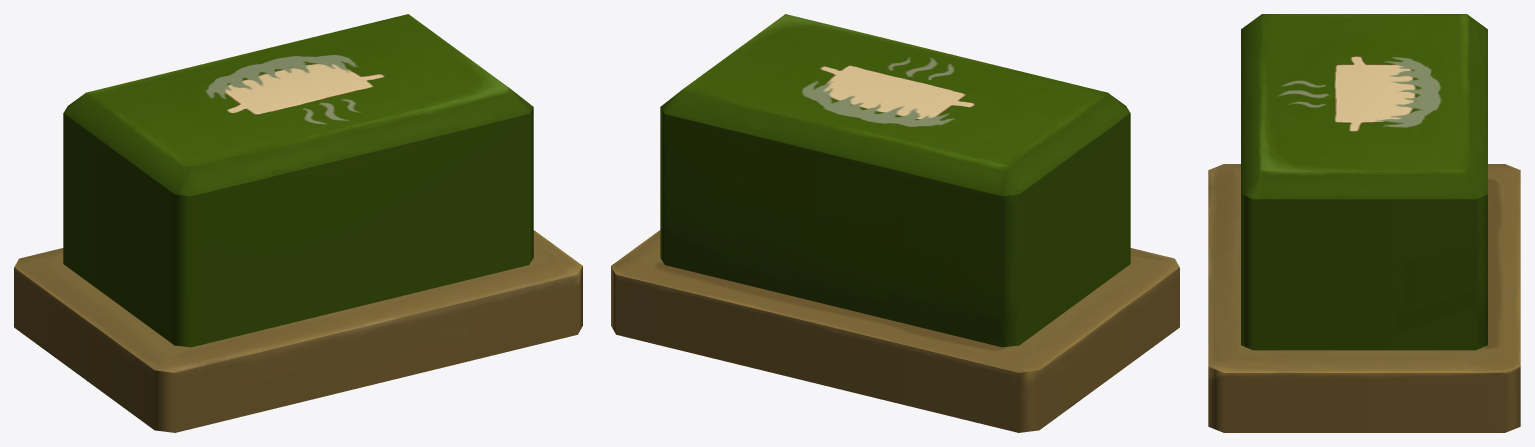
The model's file is buttons.fbx.
3 views of the same model, side by side, from view 1: azimuth 30°, elevation 25°; view 2: azimuth 150°, elevation 25°; view 3: azimuth 270°, elevation 25° (orthographic).
Visible parts, largest first — view 1: pCube2, pCube3; view 2: pCube2, pCube3; view 3: pCube2, pCube3.
Boxes of the visible parts, bbox=[...] form: pCube2: bbox=[63, 14, 533, 347]; pCube3: bbox=[14, 230, 582, 432]; pCube2: bbox=[660, 14, 1130, 347]; pCube3: bbox=[611, 230, 1179, 432]; pCube2: bbox=[1241, 14, 1487, 350]; pCube3: bbox=[1208, 164, 1520, 432].
Size of the model in its own units: 3.24 by 1.7 by 2.04.
Materials: 1 (1 with a texture image).
